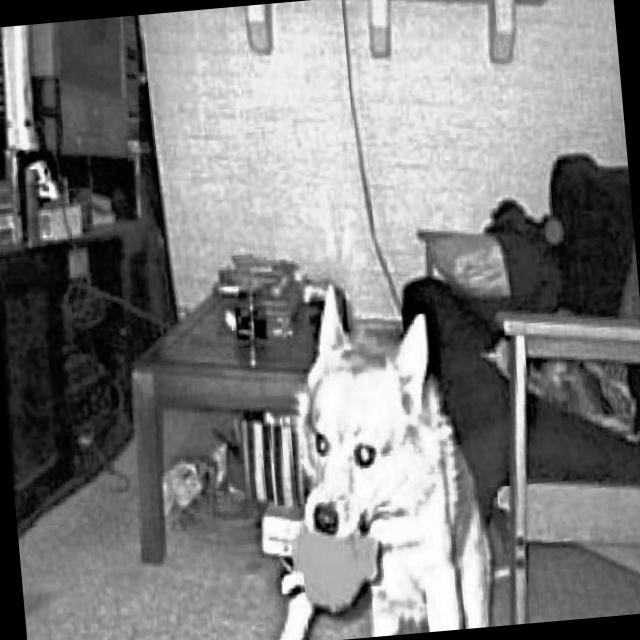Dog: (215, 259, 506, 640)
